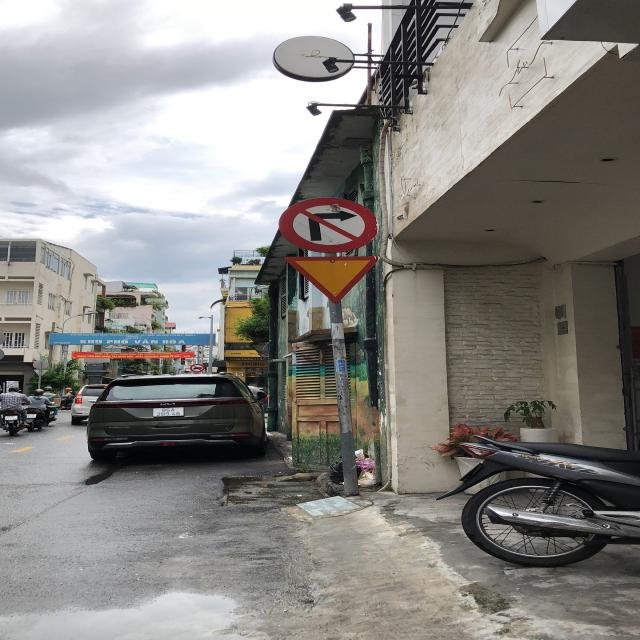Bien bao cam re phai: (279, 193, 395, 250)
Bien bao giao nhau voi duong uu tien: (281, 248, 389, 306)
